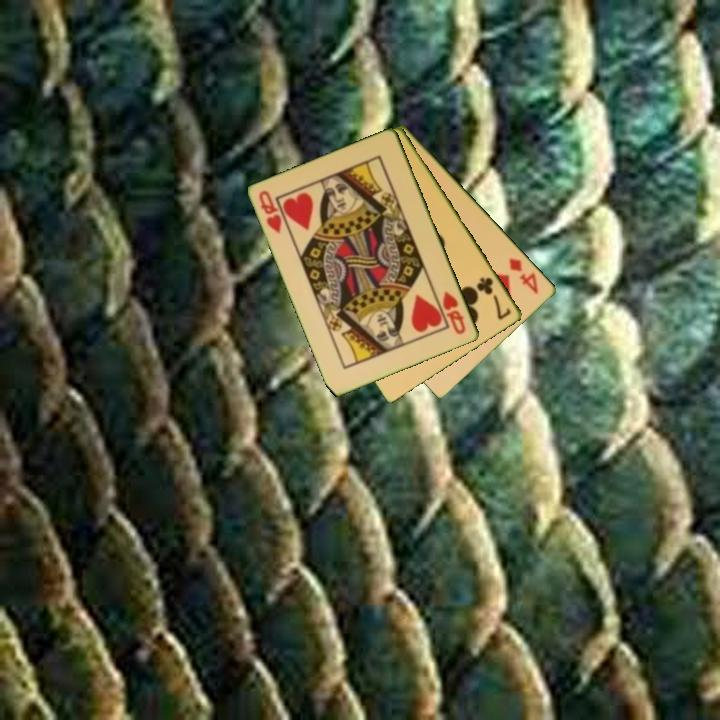4d: (506, 255, 542, 297)
7c: (473, 274, 514, 323)
Qh: (439, 288, 469, 338), (256, 187, 285, 237)
